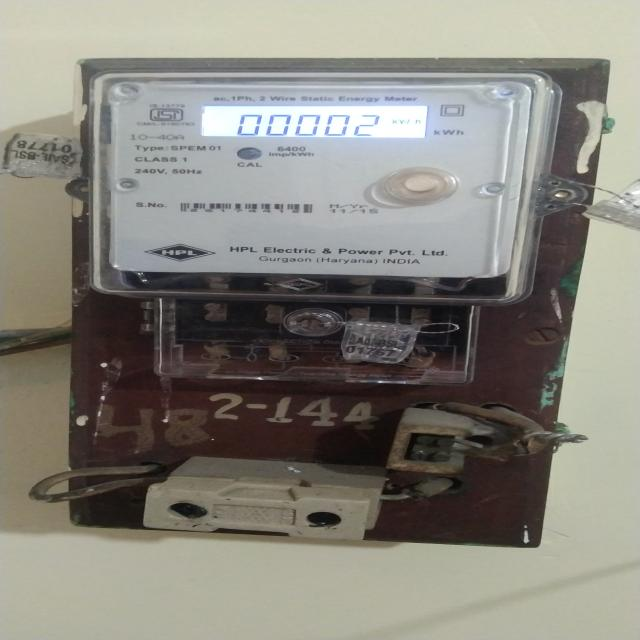display: (198, 98, 426, 142)
